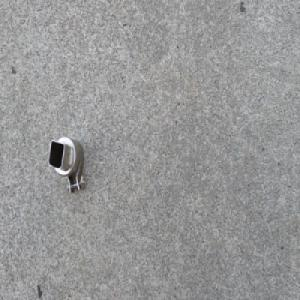MetalPart: (47, 135, 87, 196)
